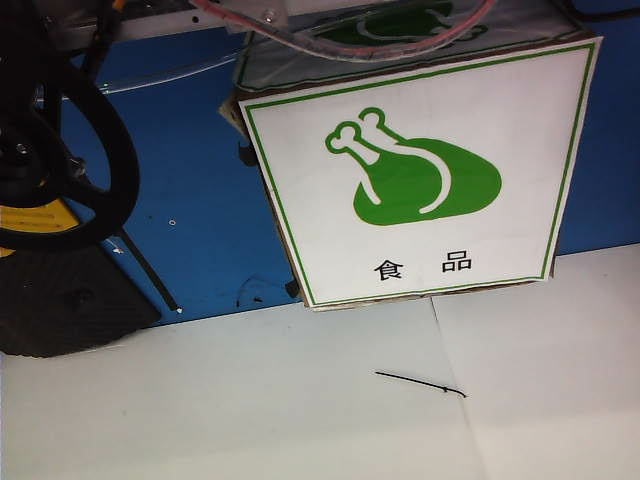Cube_food: (304, 90, 522, 286)
